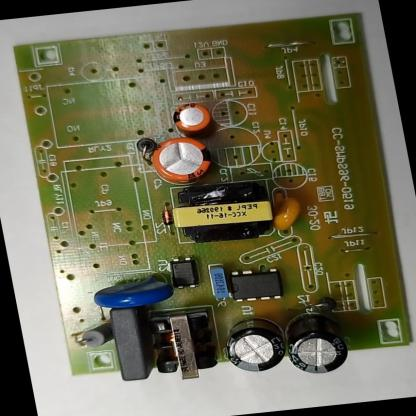Cap1: (137, 131, 227, 191)
Cap2: (163, 96, 223, 141)
Cap3: (211, 310, 298, 376)
Cap4: (275, 305, 363, 378)
MOSFET: (222, 262, 292, 306)
Mov: (87, 270, 180, 314)
Resistor: (65, 321, 116, 355)
Transformer: (160, 175, 283, 248), (138, 304, 229, 384)
